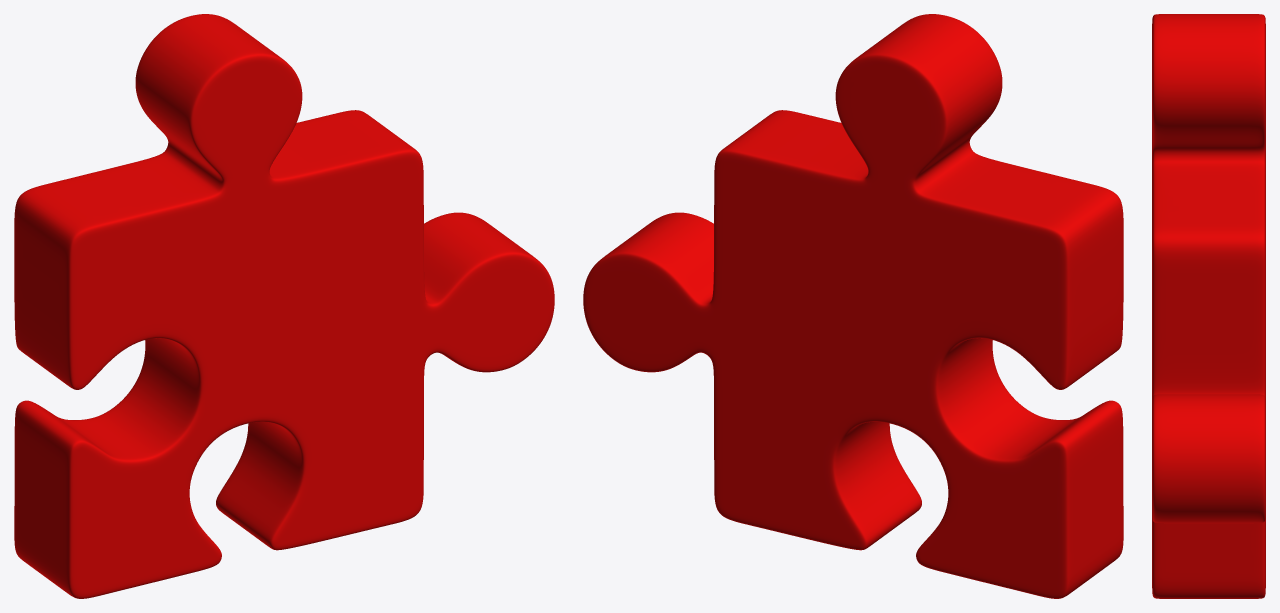
File: puzzle.glb
3 views of the same model, side by side, from view 1: azimuth 30°, elevation 25°; view 2: azimuth 150°, elevation 25°; view 3: azimuth 270°, elevation 25° (orthographic).
Parts seen in each view (by area): view 1: Puzzle; view 2: Puzzle; view 3: Puzzle.
Part boxes in pixels (x1,y1,x2,y2): Puzzle: (14, 14, 554, 598); Puzzle: (583, 14, 1123, 598); Puzzle: (1152, 14, 1265, 598).
Size of the model in its own units: 1.88 by 1.87 by 0.3853.
